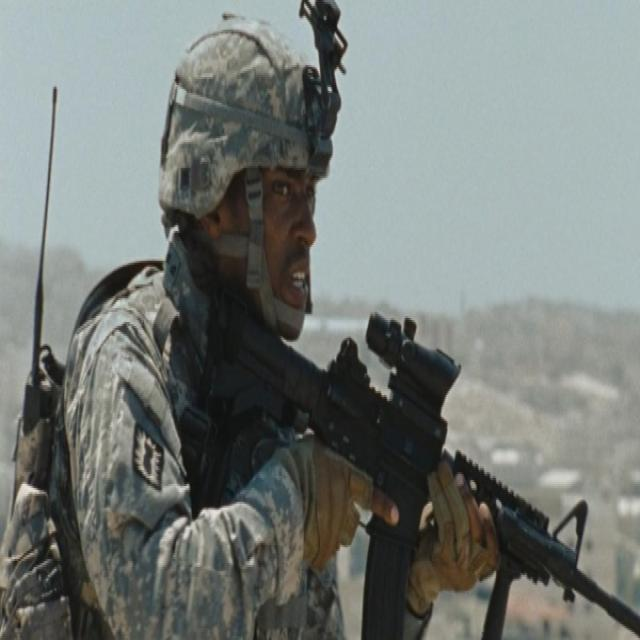rifle: (203, 280, 640, 640)
